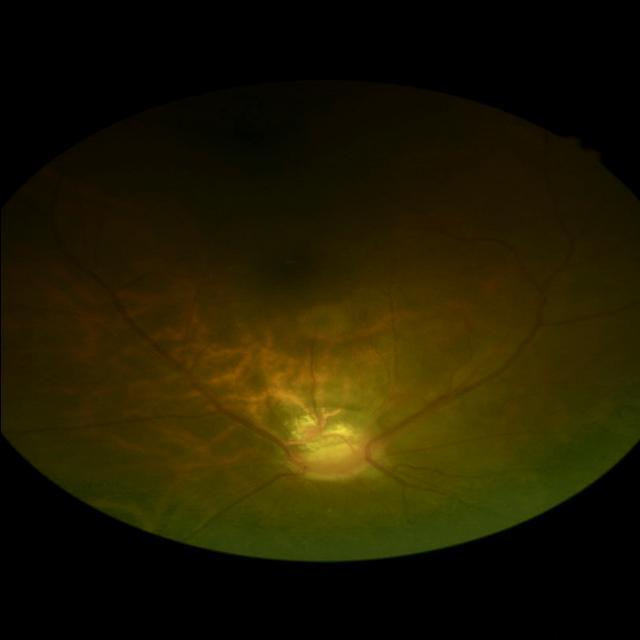cup: (302, 446, 361, 468)
disk: (286, 444, 374, 480)
